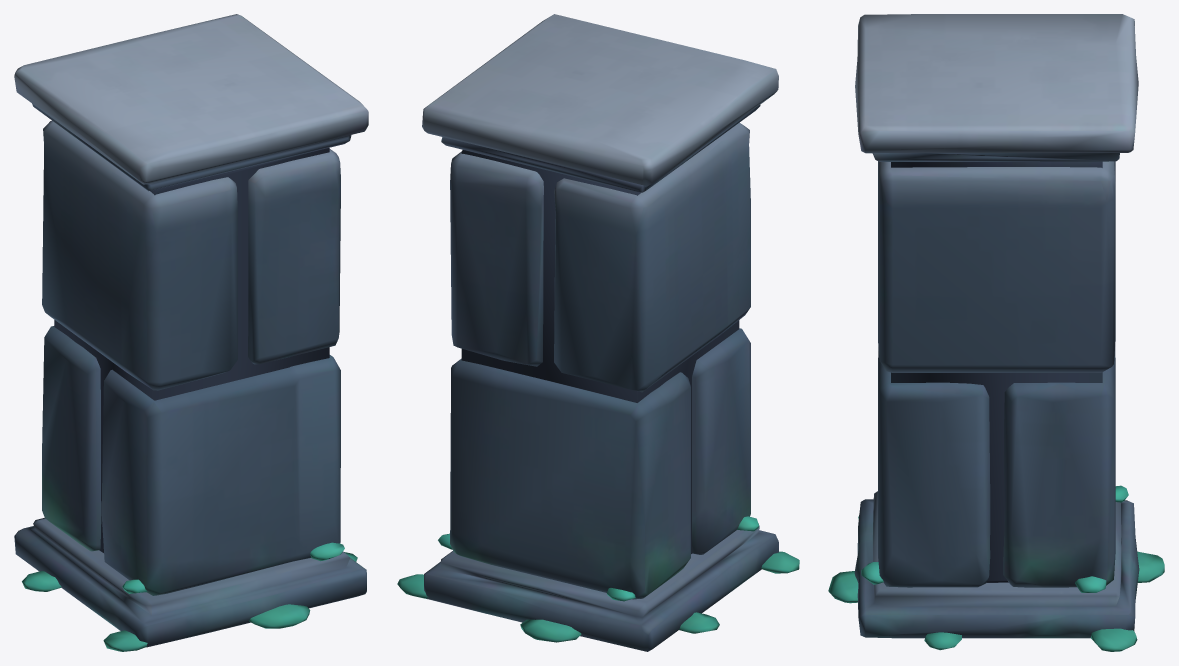
The model's file is pillar.glb.
3 renders of one model, left to right at view 1: azimuth 30°, elevation 25°; view 2: azimuth 150°, elevation 25°; view 3: azimuth 270°, elevation 25°, orthographic. The views are drawn at different scales.
Visible parts, largest first — view 1: joint-bed; view 2: joint-bed; view 3: joint-bed.
Part boxes in pixels (x1,y1,x2,y2): joint-bed: (14, 14, 368, 651); joint-bed: (397, 14, 799, 651); joint-bed: (828, 14, 1164, 651).
Bounding box in the file's own units: 0.8663 × 1.43 × 0.849.
1 material, 1 textured.
